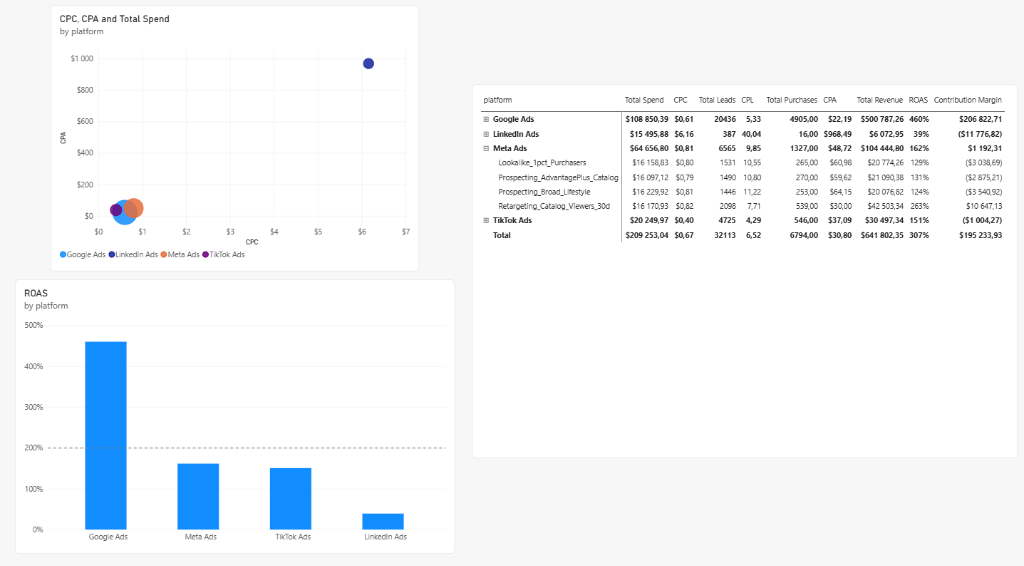

This screenshot's page, from the dashboard's own definition file:
{"tool":"powerbi","page":{"name":"Channel Performance","canvas":[1920,1080],"ordinal":1},"visuals":[{"type":"scatterChart","fields":{"Series":["mart_marketing_funnel.platform"],"Size":["_Measures.Total Spend"],"X":["_Measures.CPC"],"Y":["_Measures.CPA"]},"box":[72.9,0,700.3,525.2],"z":0},{"type":"clusteredColumnChart","fields":{"Category":["mart_marketing_funnel.platform"],"Y":["_Measures.ROAS"]},"box":[0,539.8,844.7,539.8],"z":1000},{"type":"pivotTable","fields":{"Rows":["mart_marketing_funnel.platform","mart_marketing_funnel.campaign_name"],"Values":["_Measures.Total Spend","_Measures.CPC","_Measures.Total Leads","_Measures.CPL","_Measures.Total Purchases","_Measures.CPA","_Measures.Total Revenue","_Measures.ROAS","_Measures.Contribution Margin"]},"box":[865.2,175.1,1041.7,698.8],"z":2000}]}

Visuals, with their boxes in screenshot pixels (x1, y1, x2, y2), scaled from the page's 1920x1080 canvas onto the 1024x566 screenshot:
scatterChart - mart_marketing_funnel.platform x _Measures.Total Spend: x1=39, y1=0, x2=412, y2=275
clusteredColumnChart - mart_marketing_funnel.platform x _Measures.ROAS: x1=0, y1=283, x2=451, y2=565
pivotTable - mart_marketing_funnel.platform x mart_marketing_funnel.campaign_name: x1=461, y1=92, x2=1017, y2=458
